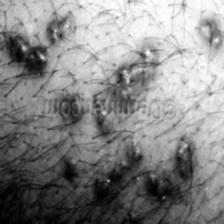Unclassified: (174, 140, 192, 182), (200, 22, 222, 48), (62, 158, 81, 183)
